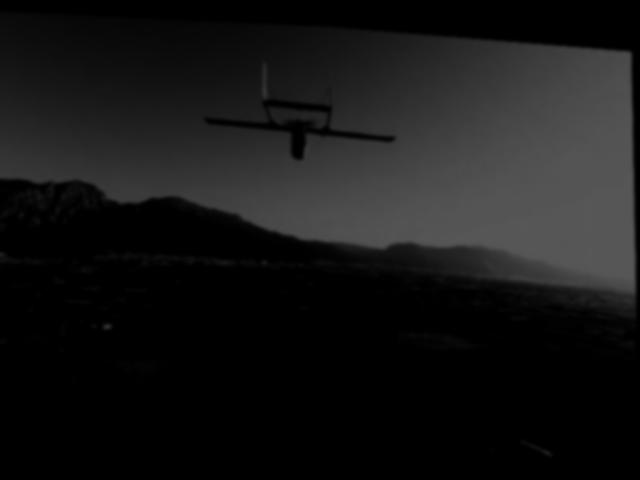hedef: (196, 39, 409, 216)
